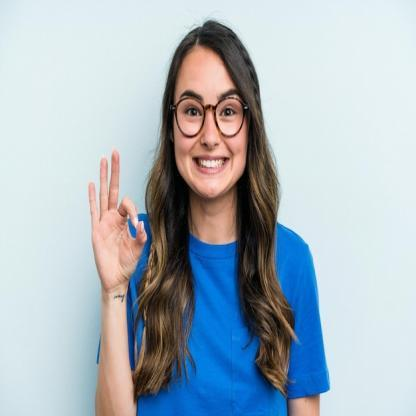ok: (86, 144, 148, 293)
